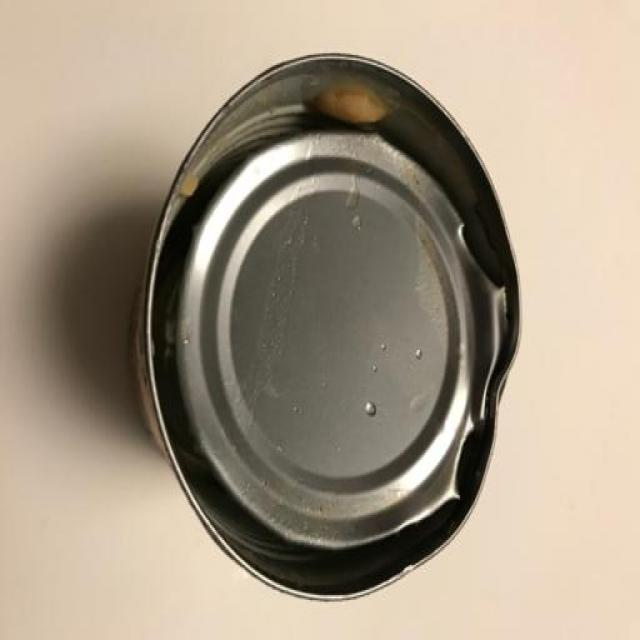metal: (126, 44, 524, 604)
